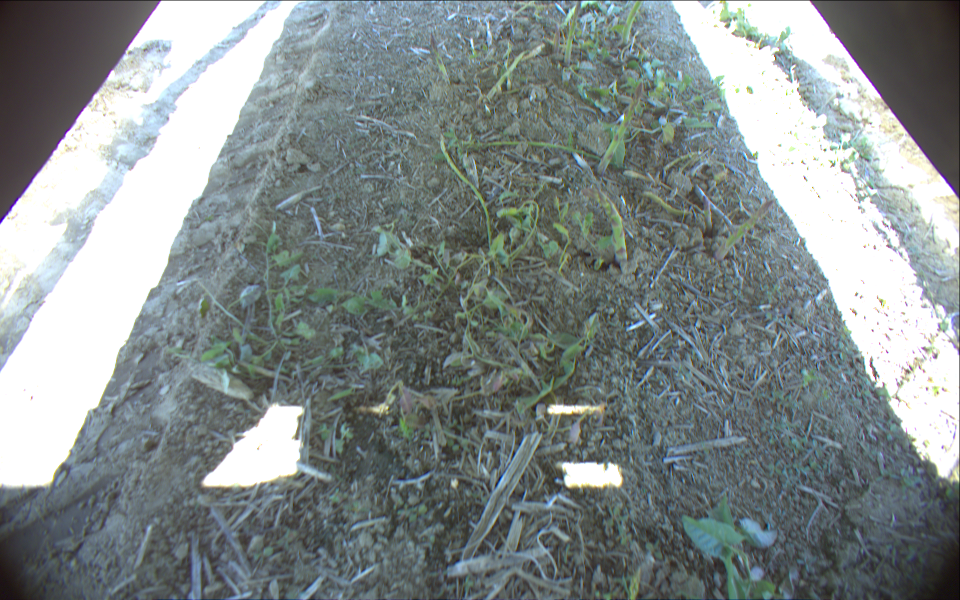aspa: (594, 81, 646, 180), (711, 197, 777, 266), (588, 190, 630, 268), (423, 31, 453, 91), (559, 1, 581, 69), (619, 1, 645, 49)
